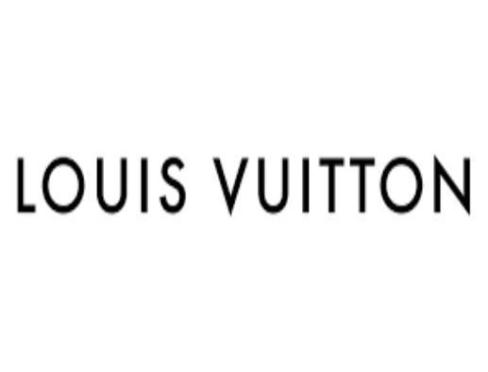LOUIS-VUITTON: (9, 153, 482, 235)
